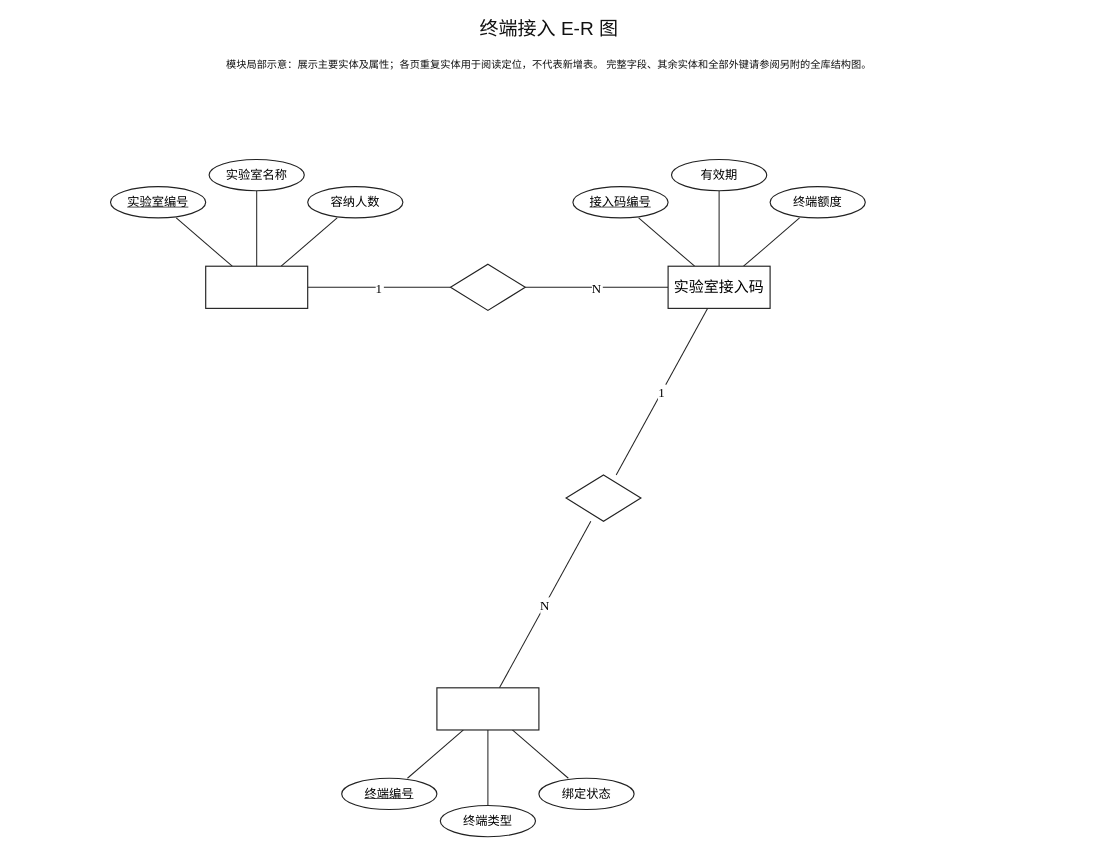
Some shapes in this 1098 by 849 pixel diagram are drawn without their labels. Each missing label, with the centre of its shape:
"实验室" belongs at point (256, 287).
"签发" belongs at point (488, 287).
"终端绑定" belongs at point (487, 708).
"绑定" belongs at point (603, 497).
